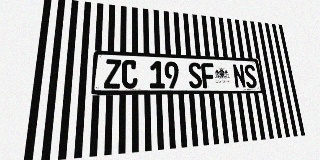1: (149, 61, 165, 88)
9: (164, 61, 180, 88)
C: (121, 60, 137, 89)
F: (201, 63, 216, 88)
N: (232, 64, 246, 88)
S: (188, 62, 203, 88), (243, 64, 258, 88)
Z: (104, 59, 121, 89)
